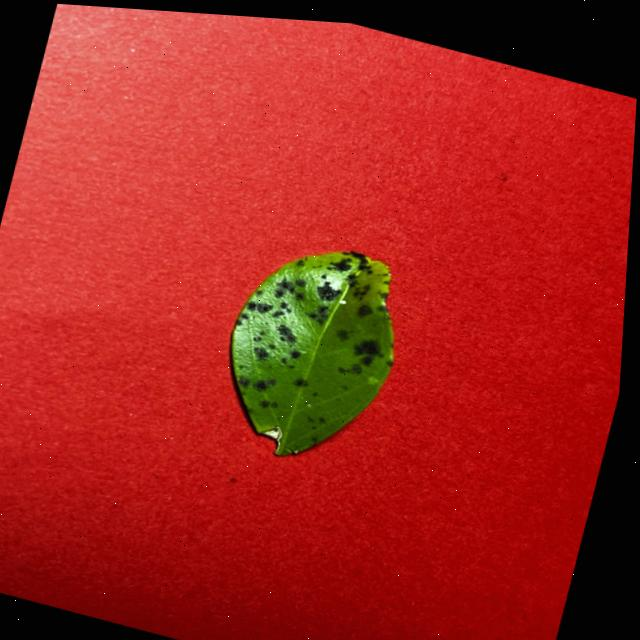sooty_mold: (231, 252, 392, 456)
